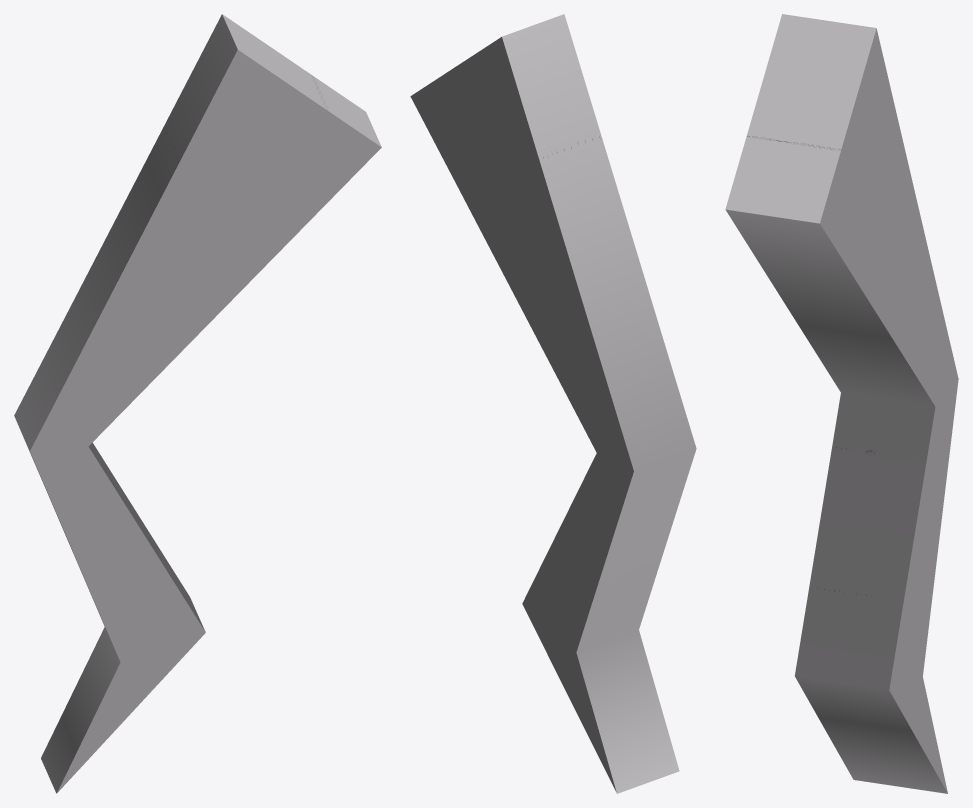
Rendered from dustCharacter_legRun1.fbx.
3 renders of one model, left to right at view 1: azimuth 30°, elevation 25°; view 2: azimuth 150°, elevation 25°; view 3: azimuth 270°, elevation 25°, orthographic. The views are drawn at different scales.
Parts seen in each view (by area): view 1: mesh_id28; view 2: mesh_id28; view 3: mesh_id28.
Part boxes in pixels (bbox=[...]): mesh_id28: bbox=[14, 14, 381, 793]; mesh_id28: bbox=[410, 14, 696, 793]; mesh_id28: bbox=[725, 14, 958, 793].
Size of the model in its own units: 62.14 by 137 by 33.92.
Materials: 1 (1 with a texture image).
